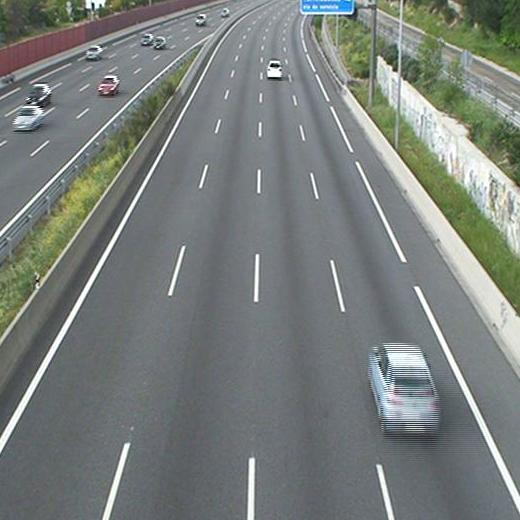car: (369, 346, 440, 429), (266, 61, 282, 78)
